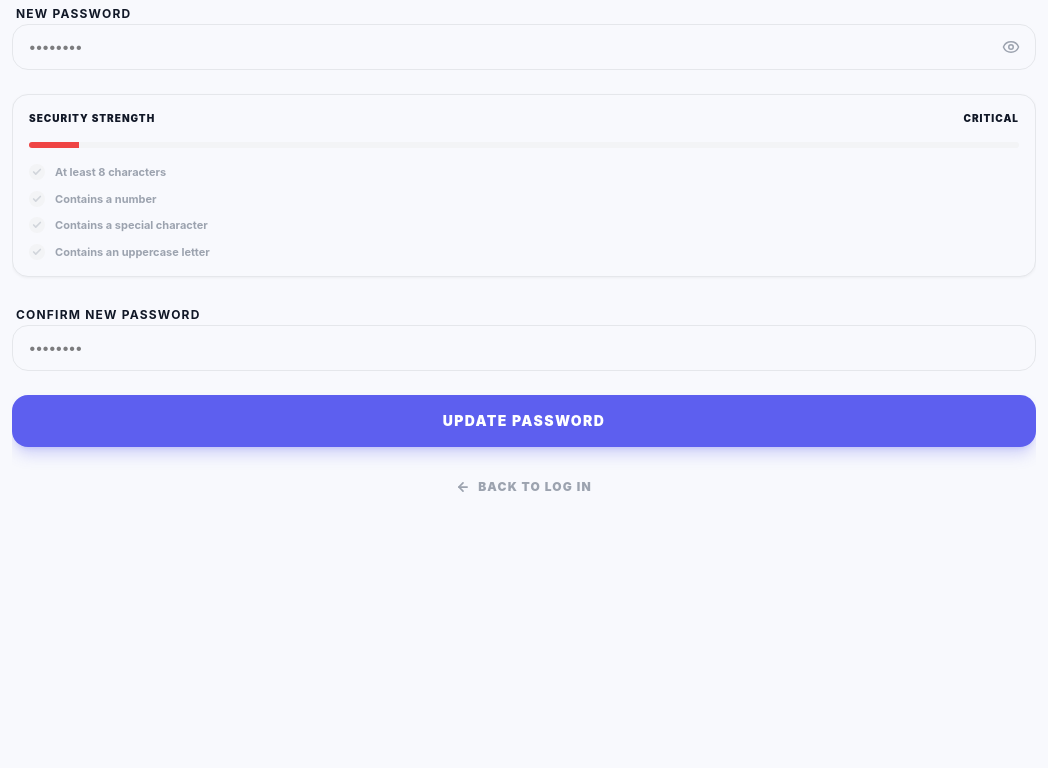
ResetPasswordForm › affiche une erreur si les mots de passe ne correspondent pas
The image size is (1048, 768).
In the 1st password field with placeholder "••••••••": (524, 47) [12,24,1036,70], type "SecurePass123!"
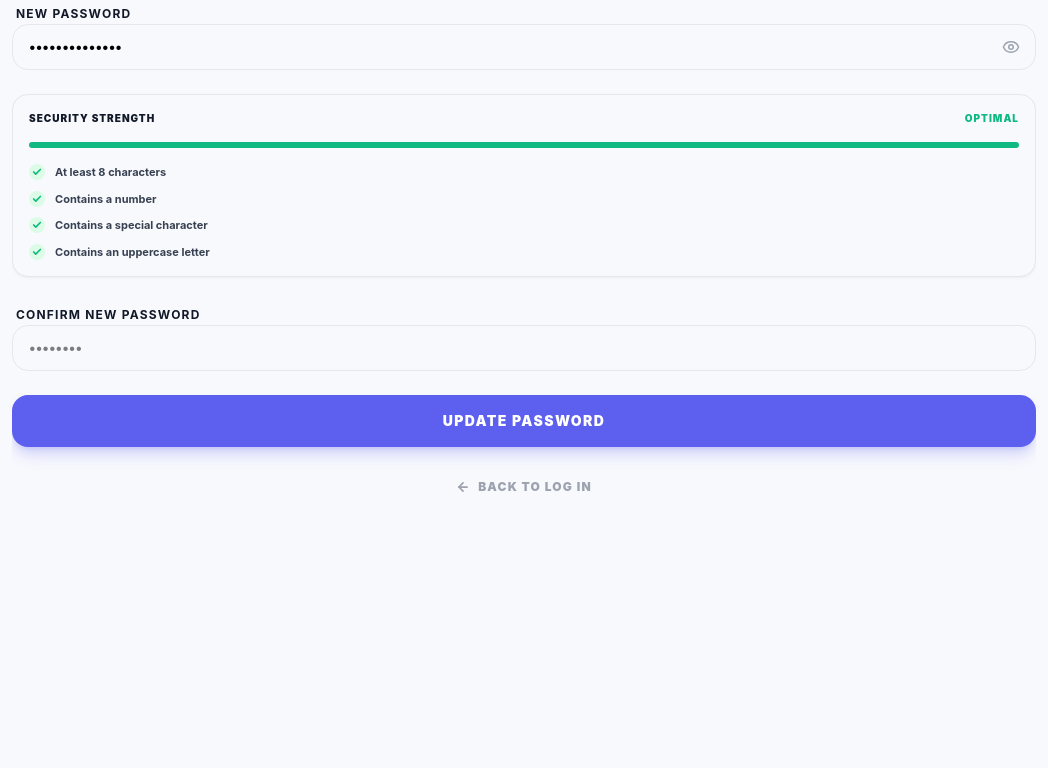
In the password field with placeholder "••••••••": (524, 348) [12,325,1036,371], type "Different123!"
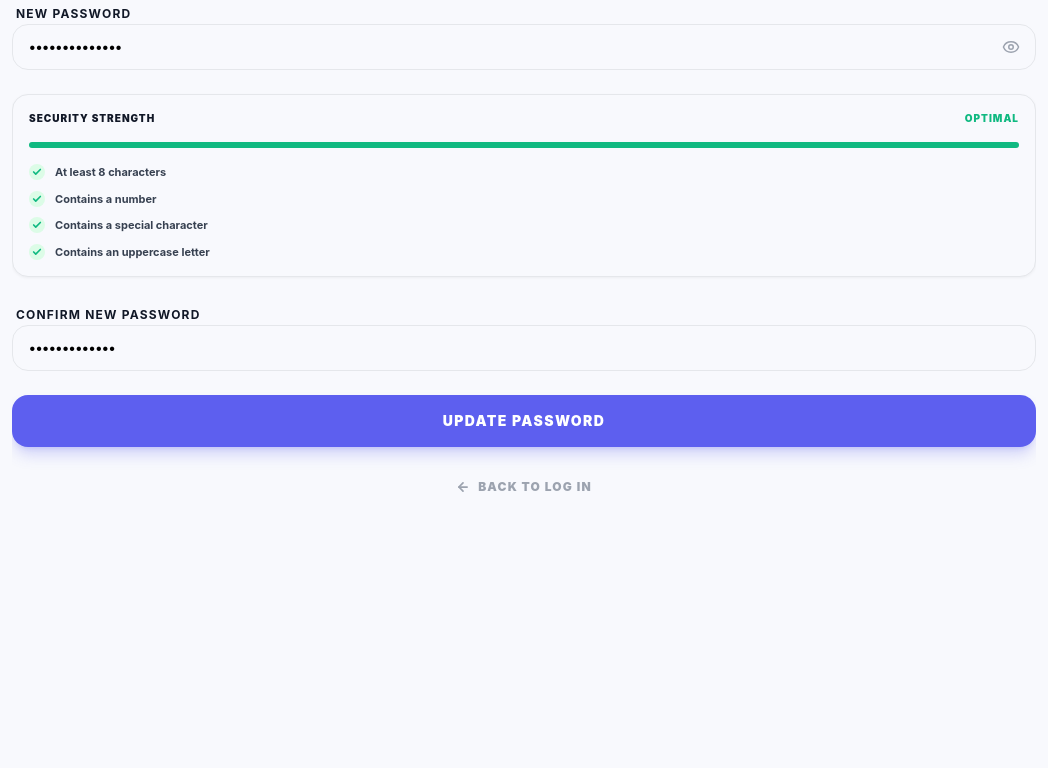
Click the button "Update Password": (524, 421) [12,395,1036,447]
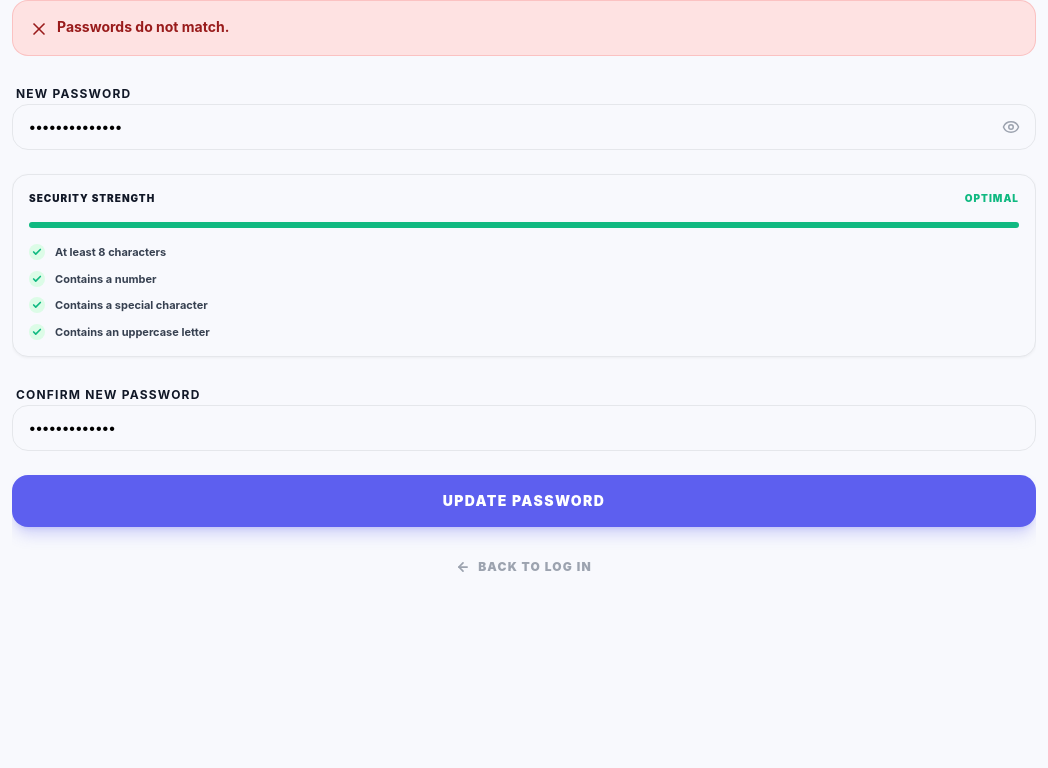
Now the text "Passwords do not match." is shown, box [57,17,229,37]
